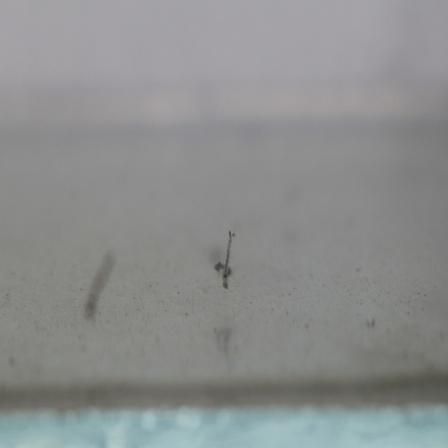Jentik-Nyamuk: (211, 228, 243, 291)
